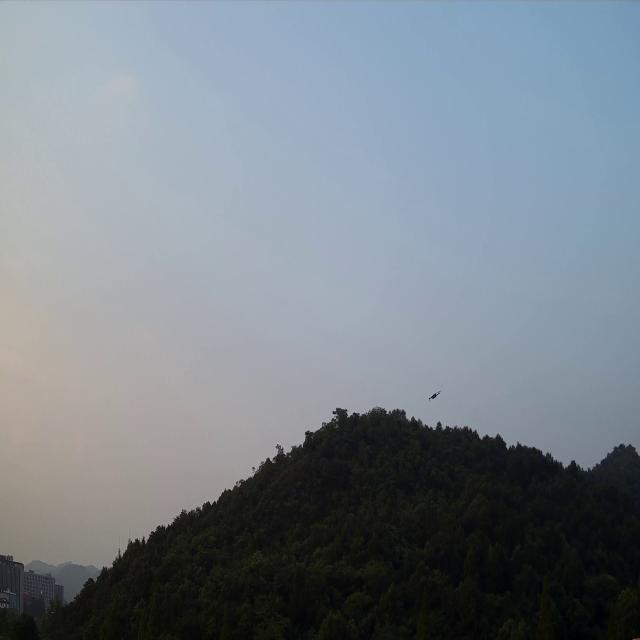UAV: (428, 390, 441, 402)
